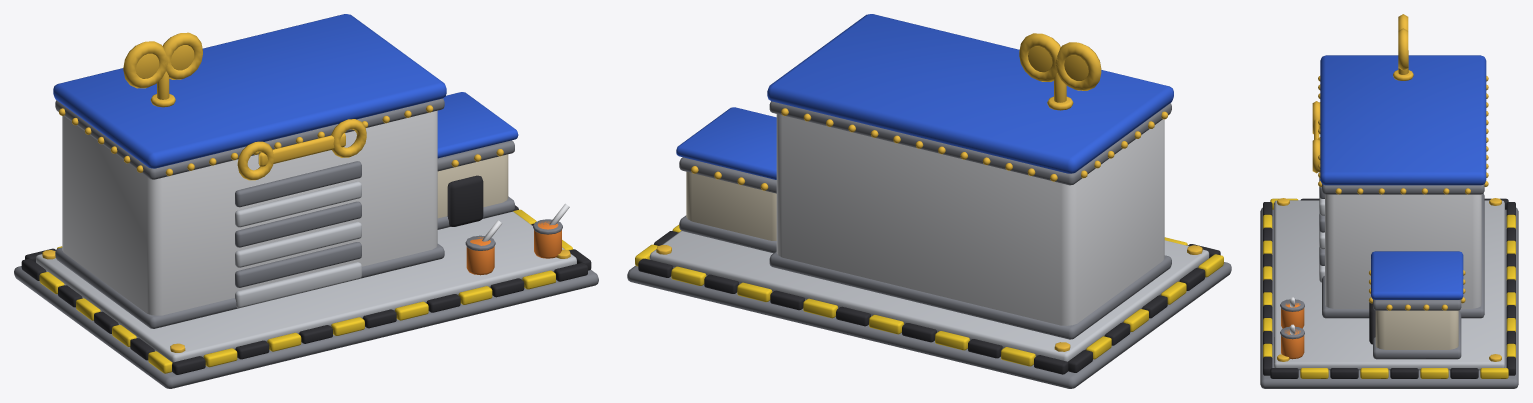
The model's file is Stables.glb.
3 views of the same model, side by side, from view 1: azimuth 30°, elevation 25°; view 2: azimuth 150°, elevation 25°; view 3: azimuth 270°, elevation 25° (orthographic). The views are drawn at different scales.
Visible parts, largest first — view 1: Stables; view 2: Stables; view 3: Stables.
Boxes of the visible parts, x1=… form: Stables: x1=14, y1=14, x2=598, y2=388; Stables: x1=627, y1=14, x2=1231, y2=388; Stables: x1=1260, y1=14, x2=1518, y2=388.
Size of the model in its own units: 4.5 by 2.69 by 2.8.
